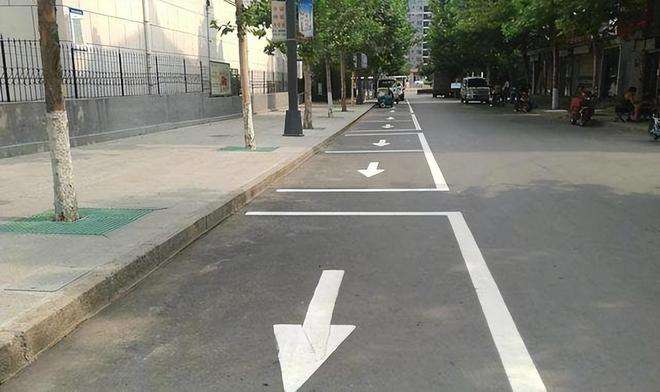slot_nocar: (2, 201, 558, 392), (251, 141, 462, 202), (304, 123, 439, 160), (330, 115, 430, 136), (361, 102, 416, 118)
